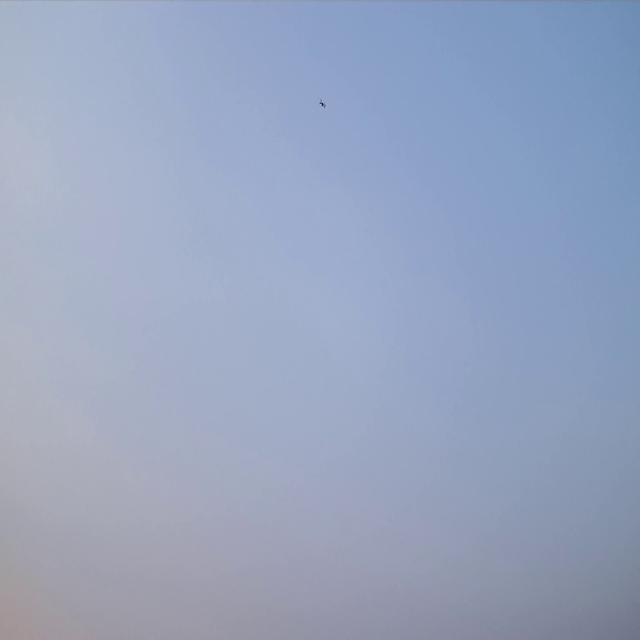UAV: (321, 101, 325, 107)
